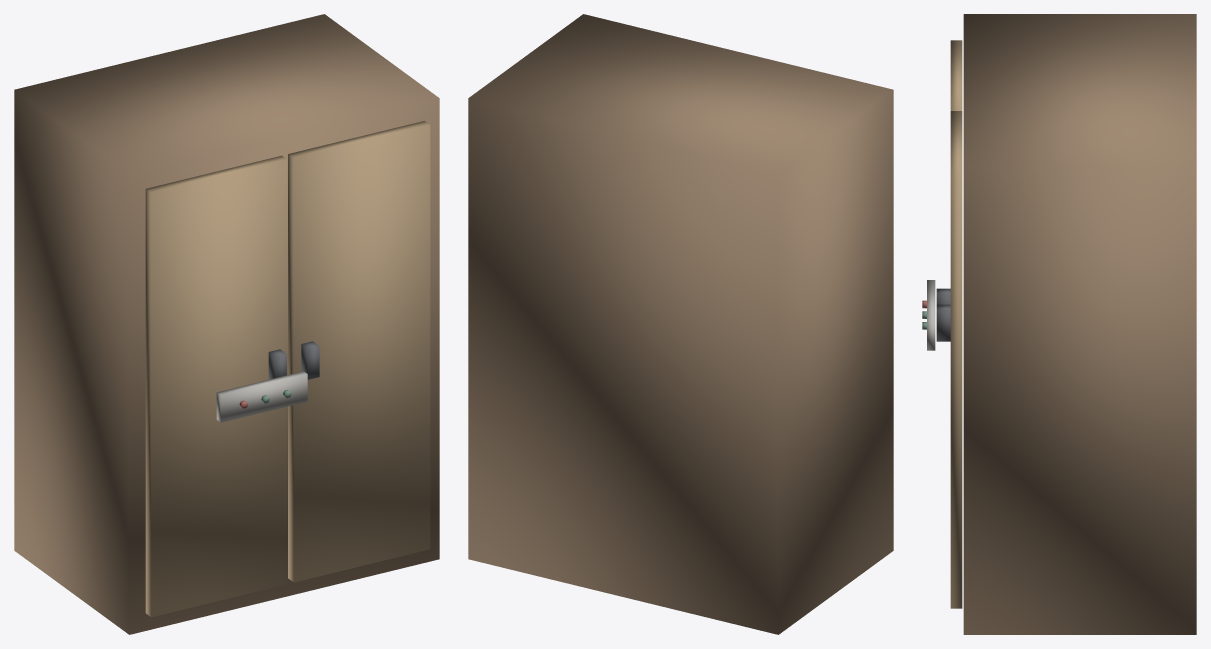
Rendered from kitchen_base_cabinet__deep.glb.
3 renders of one model, left to right at view 1: azimuth 30°, elevation 25°; view 2: azimuth 150°, elevation 25°; view 3: azimuth 270°, elevation 25°, orthographic.
Visible parts, largest first — view 1: world; view 2: world; view 3: world.
Boxes of the visible parts, x1=… form: world: x1=14, y1=14, x2=439, y2=634; world: x1=468, y1=14, x2=893, y2=634; world: x1=922, y1=14, x2=1196, y2=634.
Bounding box in the file's own units: 0.95 × 1.35 × 0.718.
